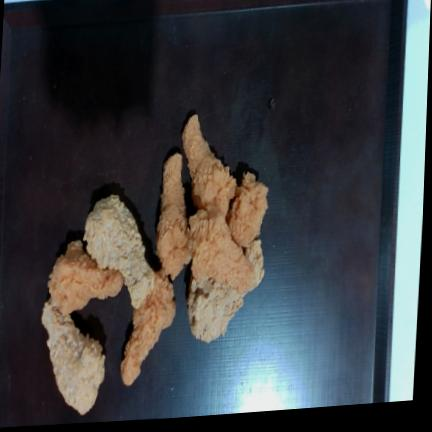chicken: (83, 194, 154, 308), (41, 299, 105, 414), (121, 270, 175, 385), (188, 206, 253, 294), (48, 241, 124, 314), (182, 114, 236, 216), (156, 153, 191, 279)
